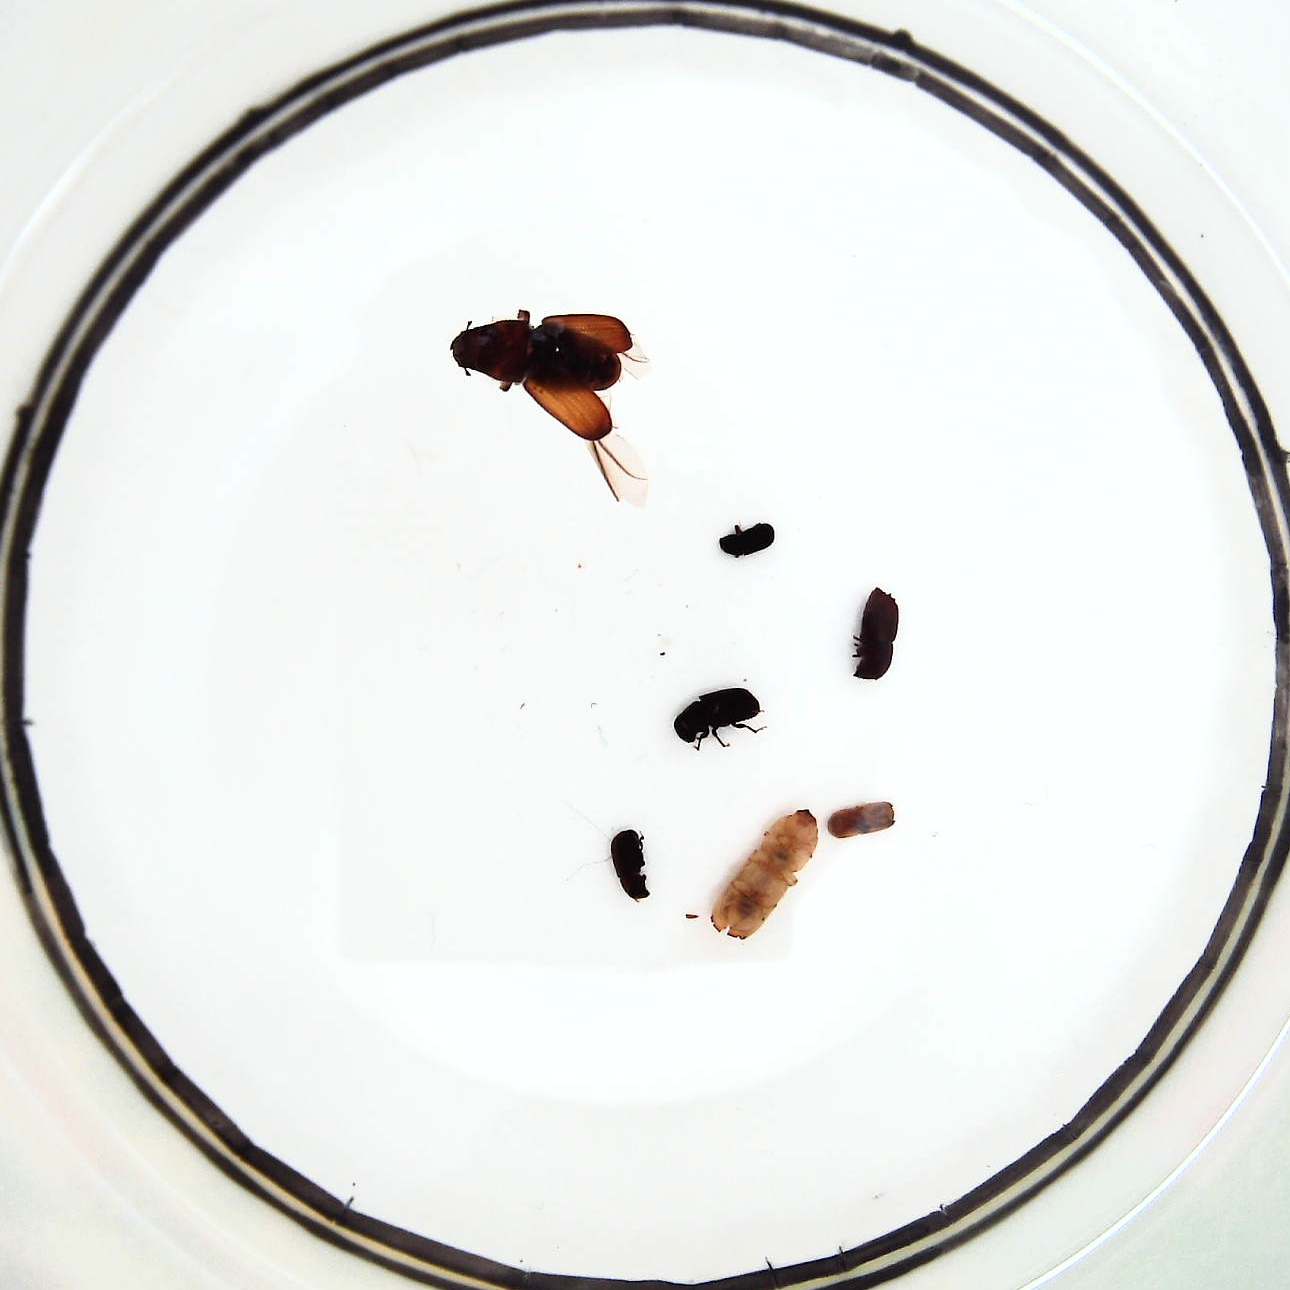Boerner: (709, 813, 814, 934)
Leconte: (448, 313, 628, 454)
Linnaeus: (851, 584, 899, 675)
acuminatus: (830, 799, 890, 842)
armandi: (675, 678, 763, 752)
coleoptera: (607, 825, 649, 903), (719, 515, 773, 556)
